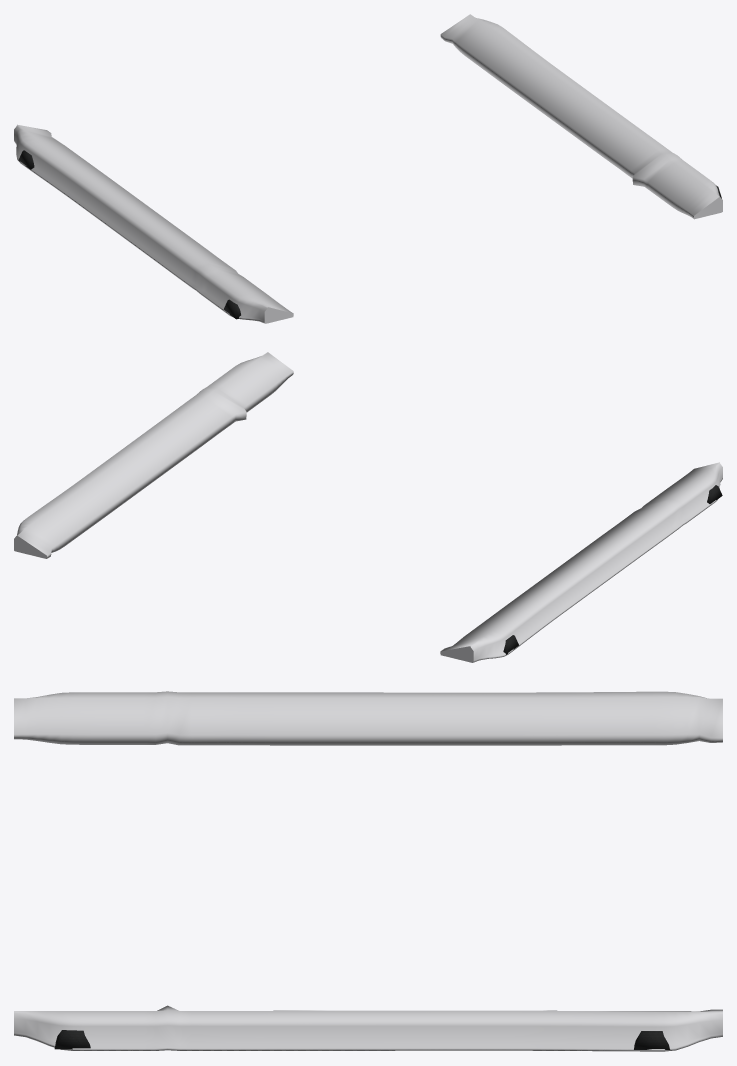
Rendered from WB11_widebody_skirts.glb.
3 renders of one model, top to bottom at view 1: azimuth 30°, elevation 25°; view 2: azimuth 150°, elevation 25°; view 3: azimuth 270°, elevation 25°, orthographic. The views are drawn at different scales.
Visible parts, largest first — view 1: MOD_NB_WB11_skirt_L, MOD_NB_WB11_skirt_R; view 2: MOD_NB_WB11_skirt_L, MOD_NB_WB11_skirt_R; view 3: MOD_NB_WB11_skirt_R, MOD_NB_WB11_skirt_L, MOD_NB_WB11_fin_Lf.
Part boxes in pixels (<box>): MOD_NB_WB11_skirt_L: <box>440,14,722,219</box>; MOD_NB_WB11_skirt_R: <box>14,124,293,323</box>; MOD_NB_WB11_skirt_L: <box>14,352,293,558</box>; MOD_NB_WB11_skirt_R: <box>440,462,722,662</box>; MOD_NB_WB11_skirt_R: <box>14,691,722,745</box>; MOD_NB_WB11_skirt_L: <box>14,1005,722,1051</box>; MOD_NB_WB11_fin_Lf: <box>54,1030,90,1049</box>.
Bounding box in the file's own units: 1.75 × 0.072 × 1.55.
2 materials, 1 textured.
